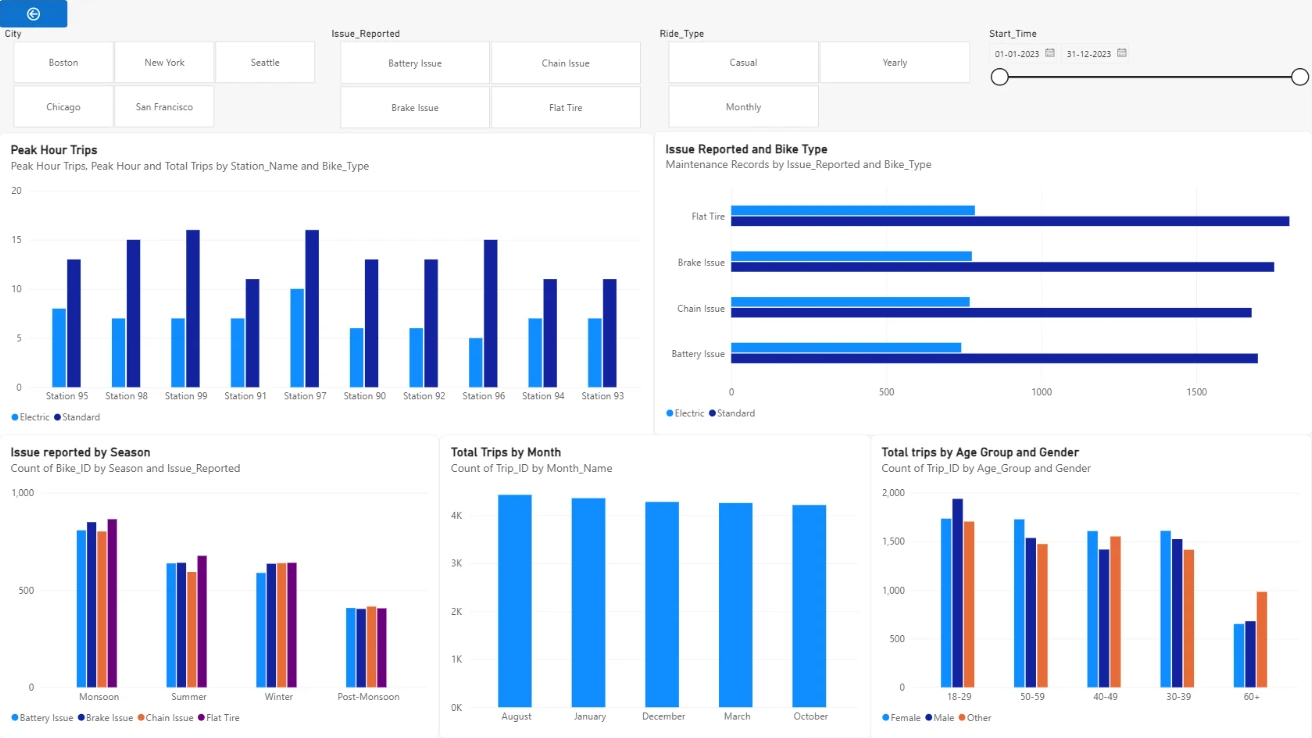

What the dashboard file says about the page in this screenshot:
{"tool":"powerbi","page":{"name":"Page 2","canvas":[1920,1080],"ordinal":1},"visuals":[{"type":"actionButton","box":[0,0,100,40],"z":0},{"type":"clusteredColumnChart","title":"Peak Hour Trips","fields":{"Category":["stations_data.Station_Name"],"Series":["bikes_data.Bike_Type"],"Y":["trips_data.Peak Hour Trips"]},"box":[0,194,957.1,447.8],"z":1000},{"type":"clusteredBarChart","title":"Issue Reported and Bike Type","fields":{"Category":["maintenance_data.Issue_Reported"],"Series":["bikes_data.Bike_Type"],"Y":["maintenance_data.Maintenance Records"]},"box":[957.1,192.2,962.7,444],"z":2000},{"type":"slicer","fields":{"Values":["stations_data.City"]},"box":[0,39.9,480.9,147.7],"z":3000},{"type":"slicer","fields":{"Values":["trips_data.Start_Time"]},"box":[1440.8,39.9,478.9,147.7],"z":4000},{"type":"slicer","fields":{"Values":["trips_data.Ride_Type"]},"box":[957.9,39.9,480.9,147.7],"z":5000},{"type":"clusteredColumnChart","title":"Issue reported by Season","fields":{"Category":["maintenance_data.Season"],"Series":["maintenance_data.Issue_Reported"],"Y":["CountNonNull(maintenance_data.Bike_ID)"]},"box":[0,635.9,643.1,444.9],"z":6000},{"type":"slicer","fields":{"Values":["maintenance_data.Issue_Reported"]},"box":[478.9,39.9,478.9,149.7],"z":7000},{"type":"clusteredColumnChart","title":"Total trips by Age Group and Gender","fields":{"Category":["users_data.Age_Group"],"Series":["users_data.Gender"],"Y":["CountNonNull(trips_data.Trip_ID)"]},"box":[1274.1,635.9,645.5,444.9],"z":8000},{"type":"columnChart","title":"Total Trips by Month","fields":{"Category":["trips_data.Month_Name"],"Y":["CountNonNull(trips_data.Trip_ID)"]},"box":[643.6,636.2,630.6,444],"z":8001}]}

Visuals, with their boxes in screenshot pixels (x1, y1, x2, y2), scaled from the page's 1920x1080 canvas onto the 1312x738 screenshot:
actionButton: box=[0, 0, 68, 27]
"Peak Hour Trips" clusteredColumnChart: box=[0, 133, 654, 439]
"Issue Reported and Bike Type" clusteredBarChart: box=[654, 131, 1311, 435]
slicer - stations_data.City: box=[0, 27, 329, 128]
slicer - trips_data.Start_Time: box=[985, 27, 1311, 128]
slicer - trips_data.Ride_Type: box=[655, 27, 983, 128]
"Issue reported by Season" clusteredColumnChart: box=[0, 435, 439, 737]
slicer - maintenance_data.Issue_Reported: box=[327, 27, 654, 130]
"Total trips by Age Group and Gender" clusteredColumnChart: box=[871, 435, 1311, 737]
"Total Trips by Month" columnChart: box=[440, 435, 871, 737]
